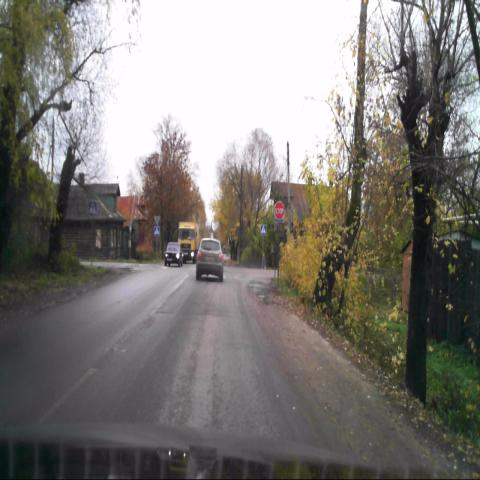2_5: (274, 201, 284, 219)
5_19_1: (88, 200, 96, 214), (154, 225, 160, 236)
